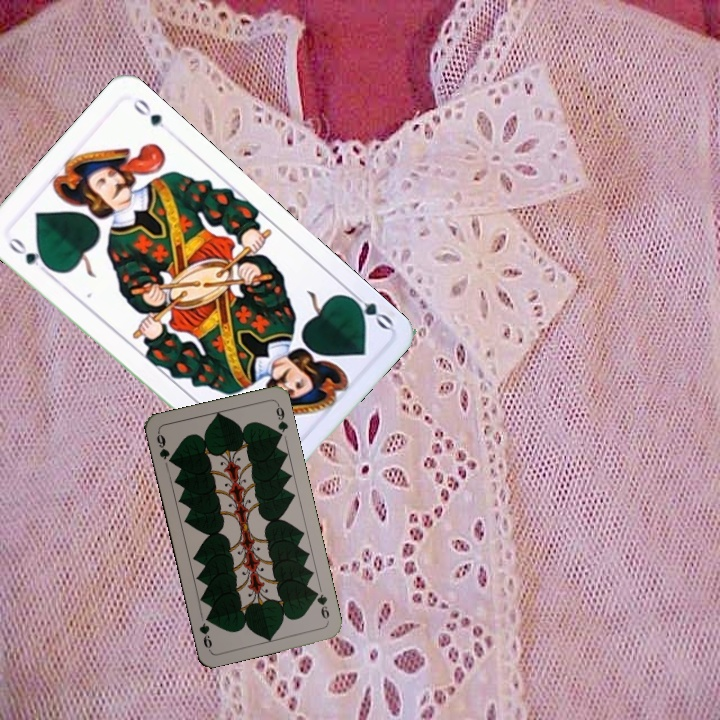G9: (152, 428, 176, 467), (310, 586, 332, 624)
GO: (342, 286, 395, 332), (4, 231, 54, 273)
